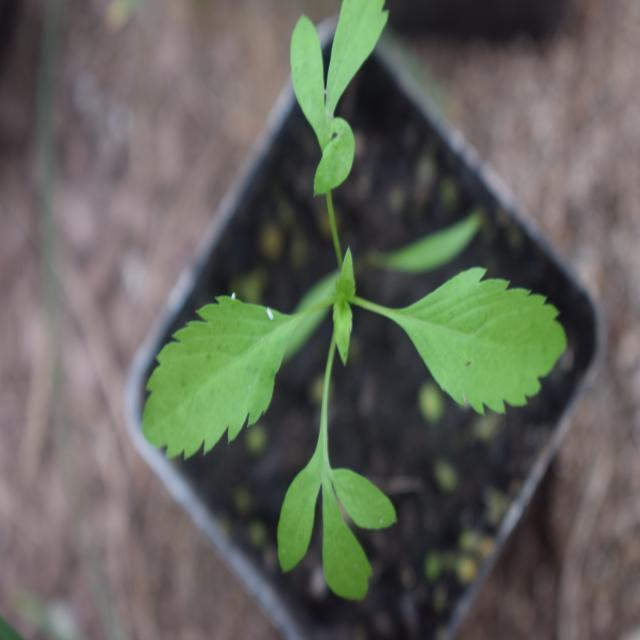Bidens pilosa: (106, 0, 564, 612)
